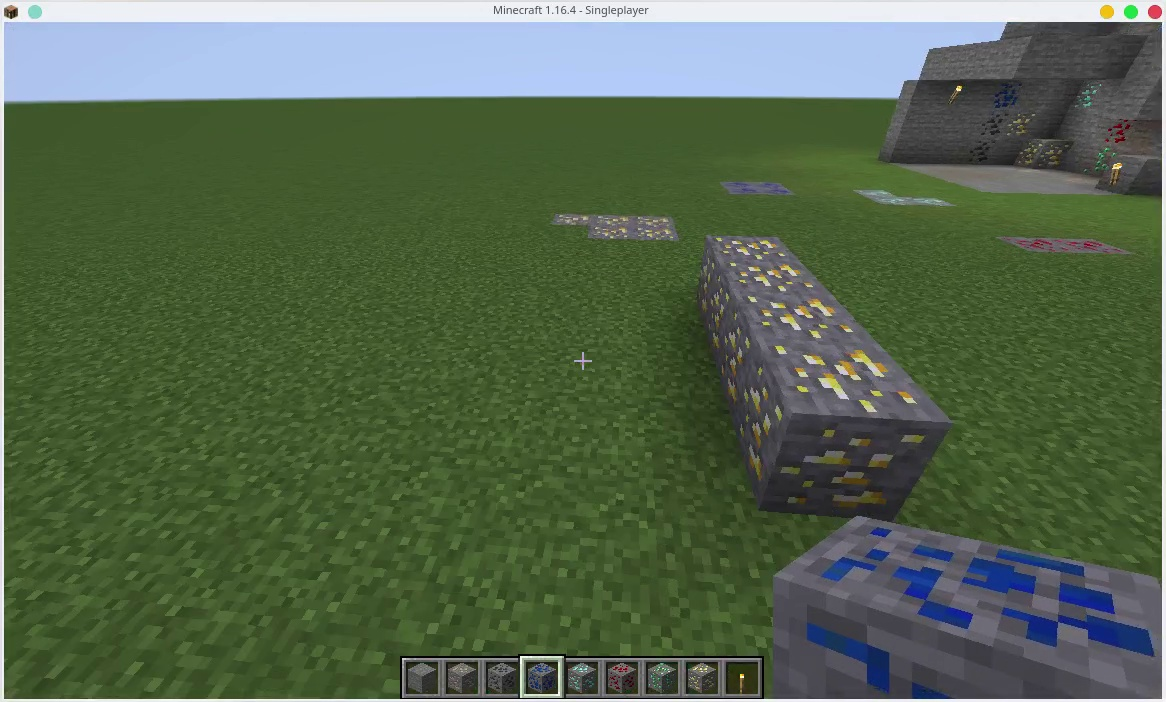gold: (744, 342, 941, 522), (741, 298, 867, 337), (557, 208, 676, 244), (715, 267, 832, 297), (702, 233, 791, 262), (728, 312, 749, 392), (1020, 139, 1062, 170), (706, 283, 728, 329), (688, 664, 717, 691), (1009, 111, 1034, 133)
